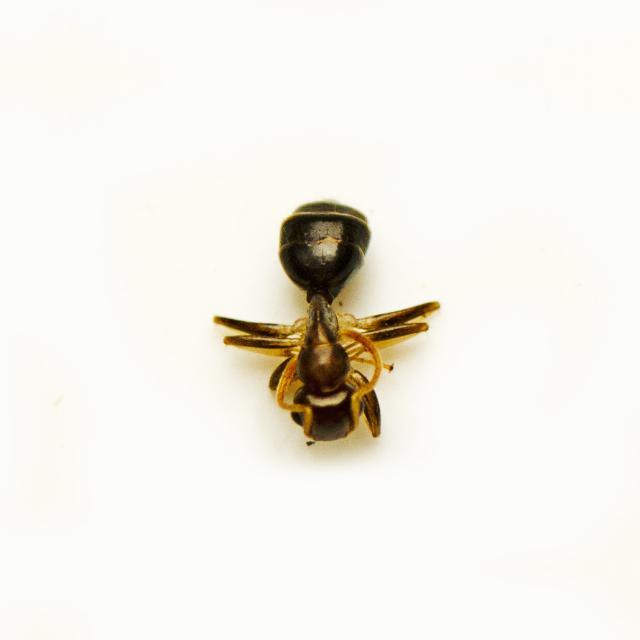Colobopsis: (222, 180, 426, 470)
